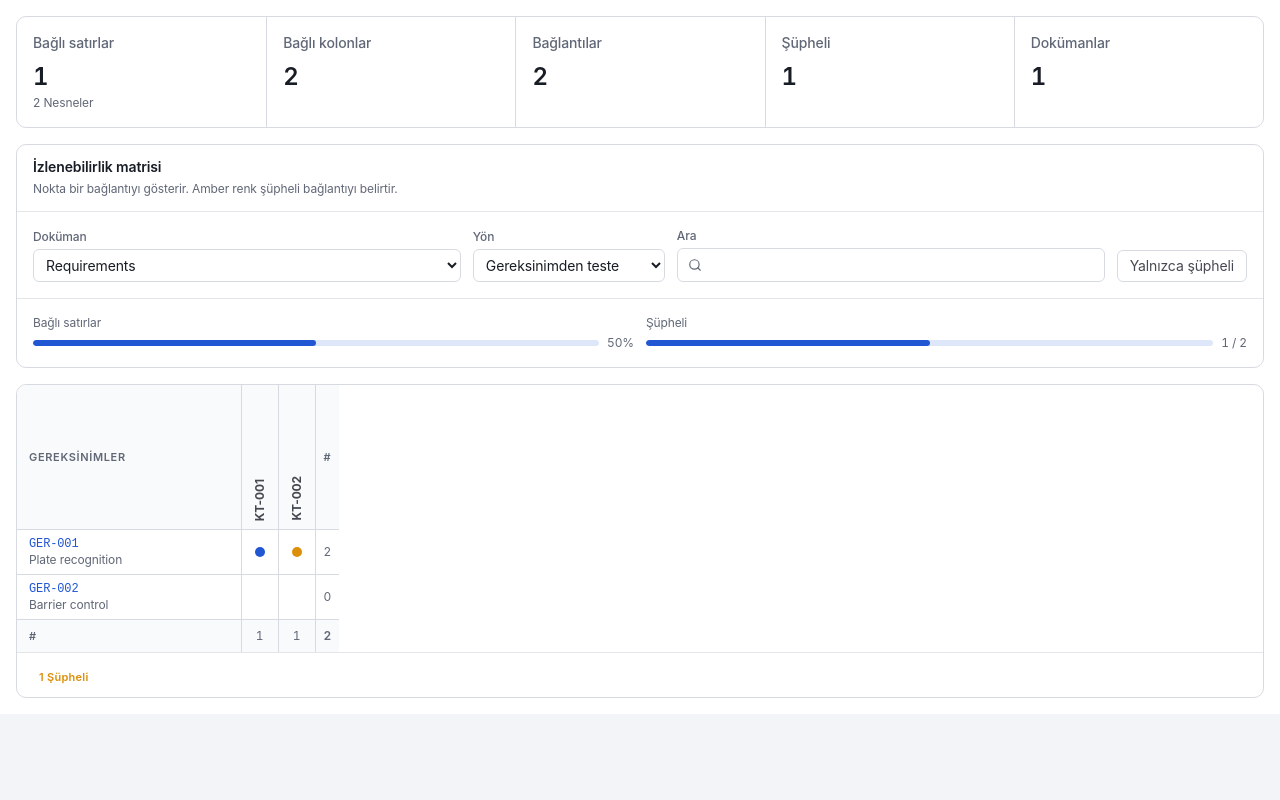
it: TraceabilityMatrixPage › narrows the matrix to suspect links only
Expected: the element with test id "matrix-grid" is shown, [16,384,1264,698]
Click the button with test id "matrix-suspect-only" at (1182, 266), box [1117,250,1247,282]
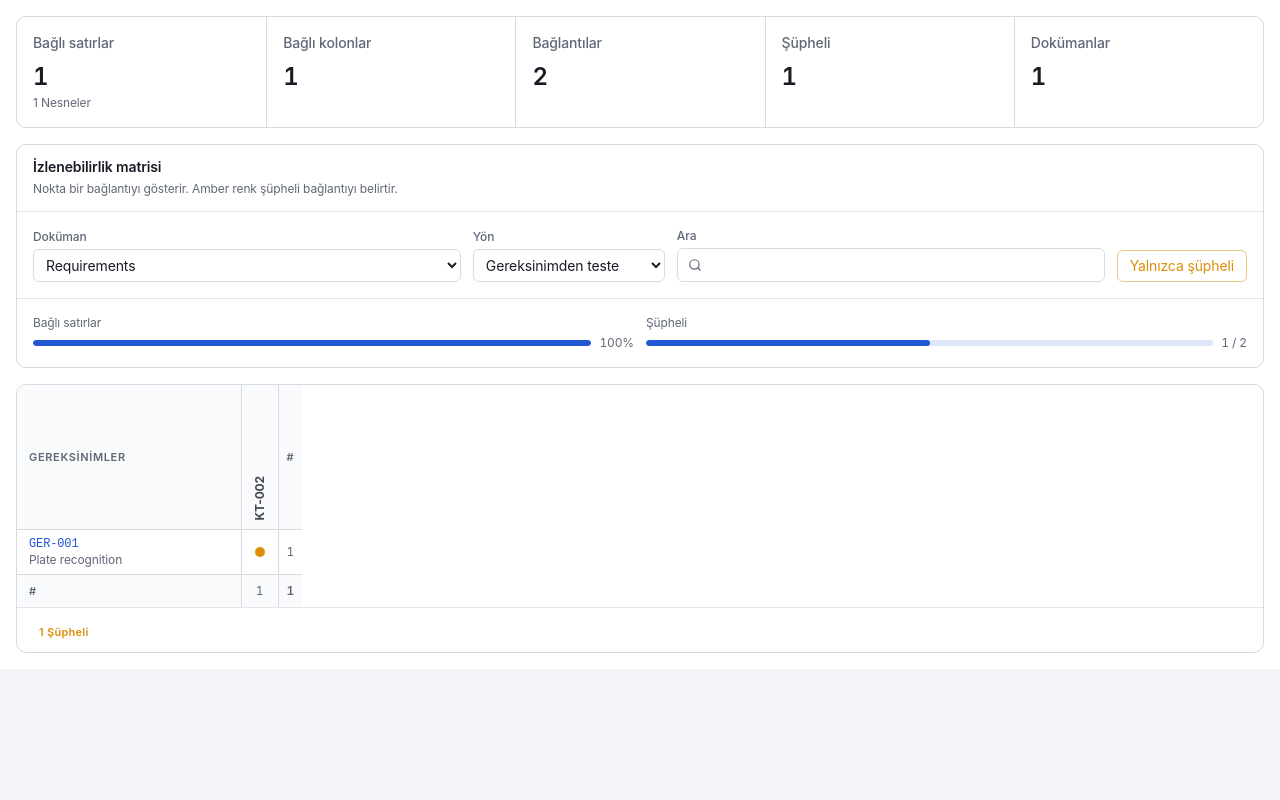
Expected: the row with test id "matrix-row-req-1" is shown, [17,530,302,574]
Expected: the row with test id "matrix-row-req-2" is gone
